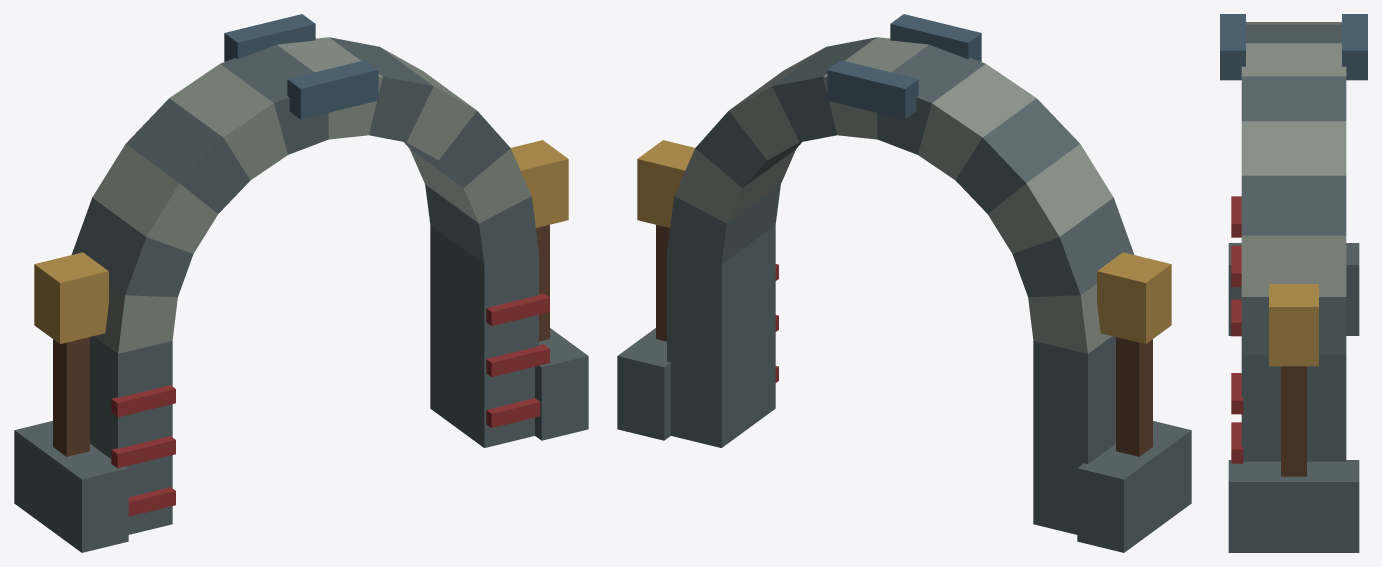
File: PirateCove_ArchGate_Showcase.glb
3 views of the same model, side by side, from view 1: azimuth 30°, elevation 25°; view 2: azimuth 150°, elevation 25°; view 3: azimuth 270°, elevation 25° (orthographic). The views are drawn at different scales.
Parts seen in each view (by area): view 1: PirateCove_ArchGate_Showcase; view 2: PirateCove_ArchGate_Showcase; view 3: PirateCove_ArchGate_Showcase.
Part boxes in pixels (left/top/right/bottom): PirateCove_ArchGate_Showcase: left=14, top=14, right=588, bottom=552; PirateCove_ArchGate_Showcase: left=617, top=14, right=1191, bottom=552; PirateCove_ArchGate_Showcase: left=1220, top=14, right=1367, bottom=552.
Bounding box in the file's own units: 2.61 × 2.04 × 0.68.
